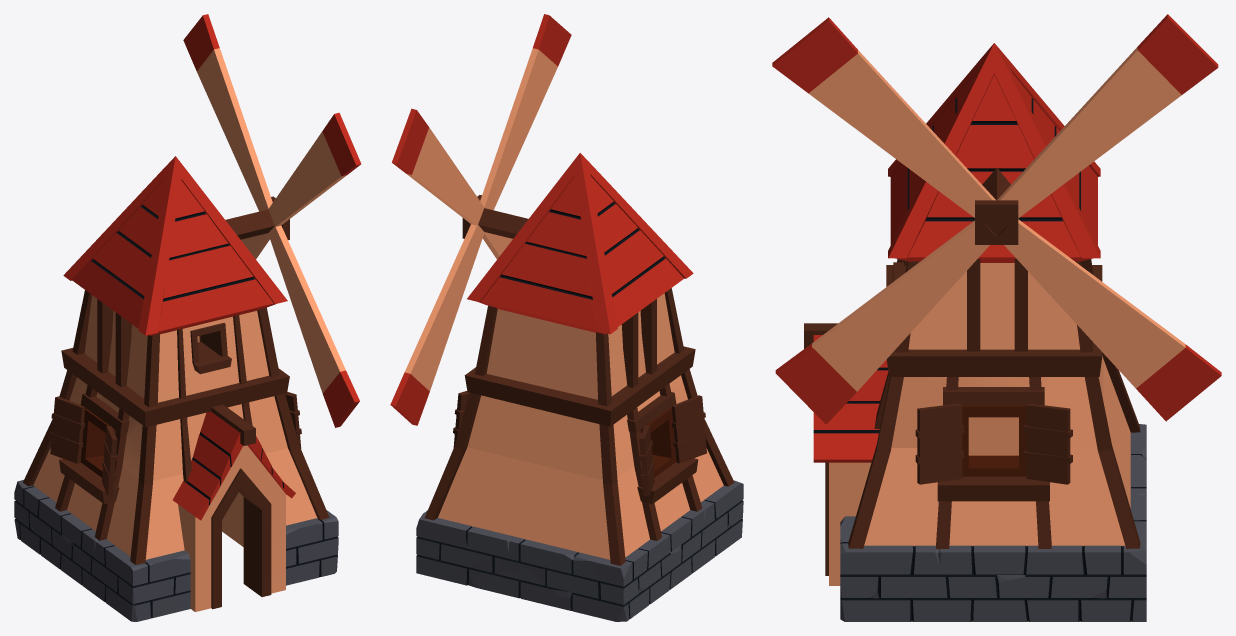
File: Windmill.fbx
3 views of the same model, side by side, from view 1: azimuth 30°, elevation 25°; view 2: azimuth 150°, elevation 25°; view 3: azimuth 270°, elevation 25° (orthographic). The views are drawn at different scales.
Parts seen in each view (by area): view 1: Windmill; view 2: Windmill; view 3: Windmill.
Part boxes in pixels (left/top/right/bottom): Windmill: left=14, top=14, right=361, bottom=621; Windmill: left=390, top=14, right=743, bottom=621; Windmill: left=772, top=14, right=1221, bottom=621.
Bounding box in the file's own units: 122 × 260 × 176.
